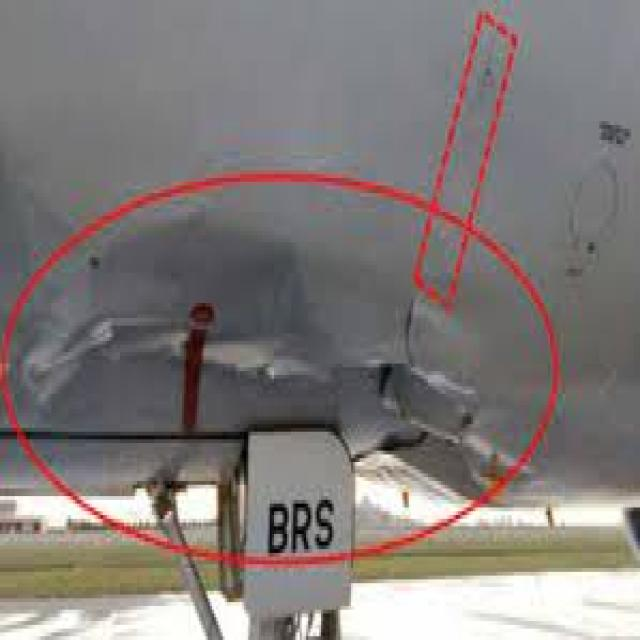Dent: (23, 210, 394, 425)
